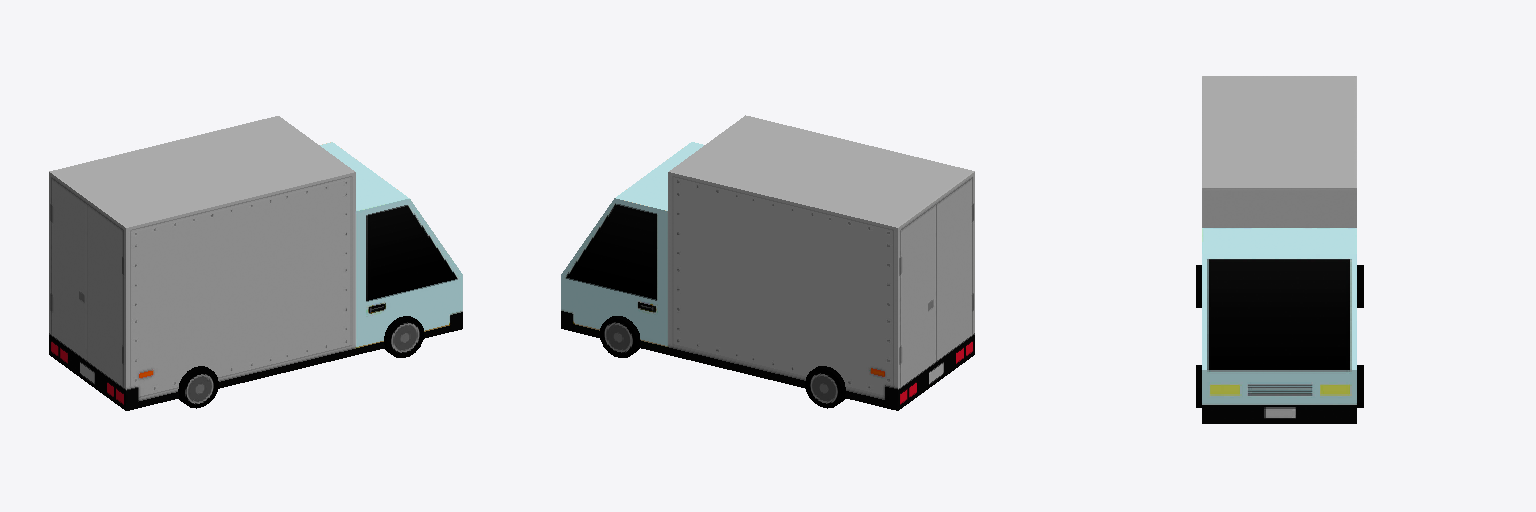
3 views of the same model, side by side, from view 1: azimuth 30°, elevation 25°; view 2: azimuth 150°, elevation 25°; view 3: azimuth 270°, elevation 25° (orthographic).
Parts seen in each view (by area): view 1: Car_09; view 2: Car_09; view 3: Car_09.
Boxes of the visible parts, <box> form: Car_09: <box>49,116,462,410</box>; Car_09: <box>561,115,974,410</box>; Car_09: <box>1196,76,1363,423</box>.
Size of the model in its own units: 8.73 by 4.82 by 3.75.
Materials: 1 (1 with a texture image).